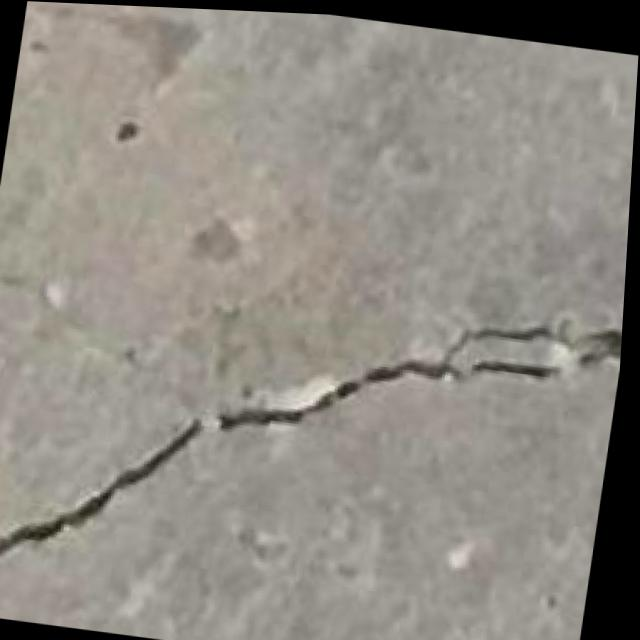Crack: (0, 221, 630, 640)
